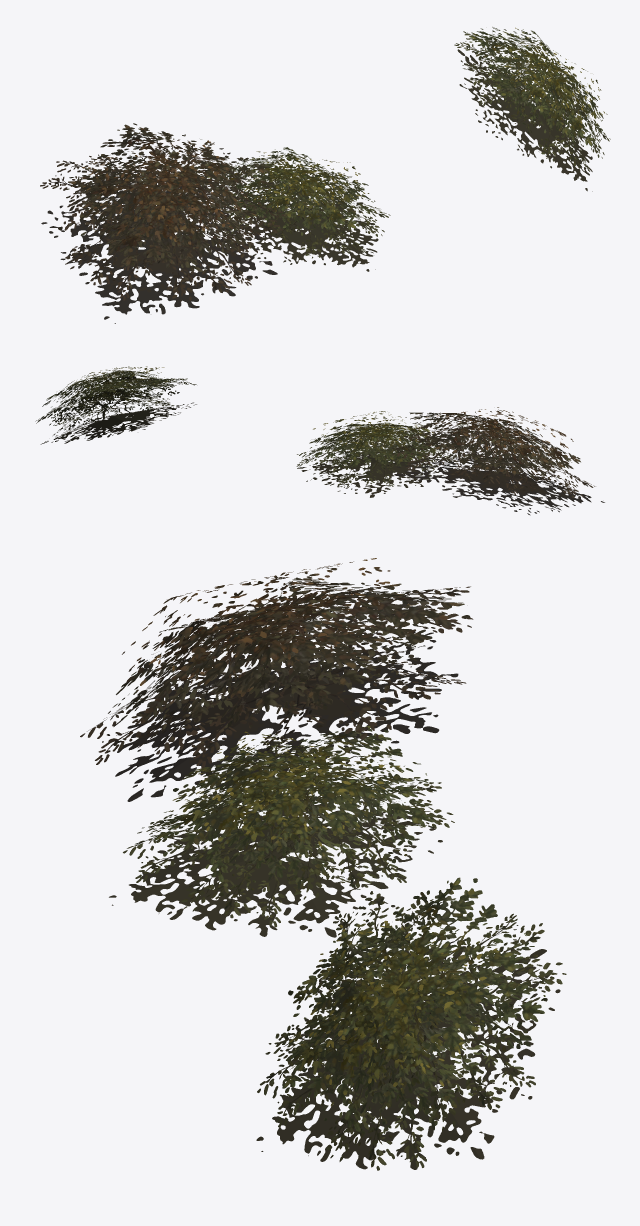
File: plants_bushes01.fbx
The picture shows the model from 3 angles, top to bottom: view 1: azimuth 30°, elevation 25°; view 2: azimuth 150°, elevation 25°; view 3: azimuth 270°, elevation 25°; orthographic projection. The views are drawn at different scales.
Parts seen in each view (by area): view 1: obj1.041; view 2: obj1.041; view 3: obj1.041.
Boxes of the visible parts, bbox=[...] form: obj1.041: bbox=[40, 27, 610, 323]; obj1.041: bbox=[35, 366, 604, 515]; obj1.041: bbox=[80, 558, 566, 1170].
Bounding box in the file's own units: 10.36 × 2.3 × 4.88.
